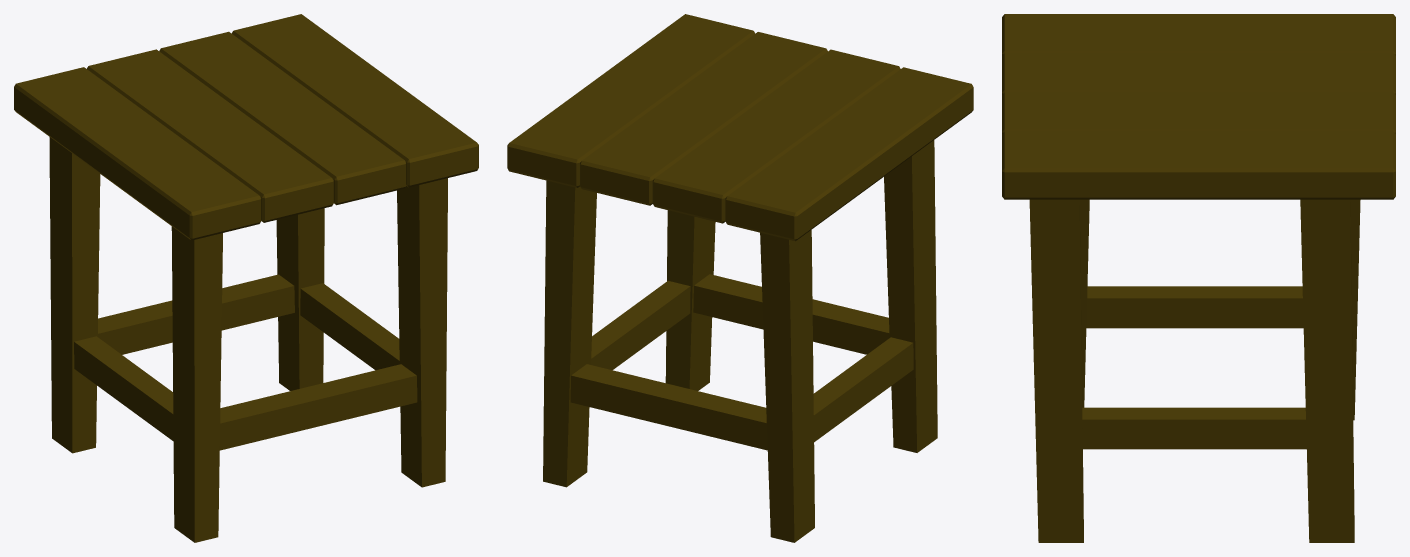
File: Wooden Stool.fbx
3 renders of one model, left to right at view 1: azimuth 30°, elevation 25°; view 2: azimuth 150°, elevation 25°; view 3: azimuth 270°, elevation 25°, orthographic. The views are drawn at different scales.
Visible parts, largest first — view 1: Wooden_Stool; view 2: Wooden_Stool; view 3: Wooden_Stool.
Boxes of the visible parts, x1,y1,x2,y2 form: Wooden_Stool: (14, 14, 478, 542); Wooden_Stool: (507, 14, 973, 542); Wooden_Stool: (1002, 14, 1395, 542).
Size of the model in its own units: 1.18 by 1.35 by 1.26.
